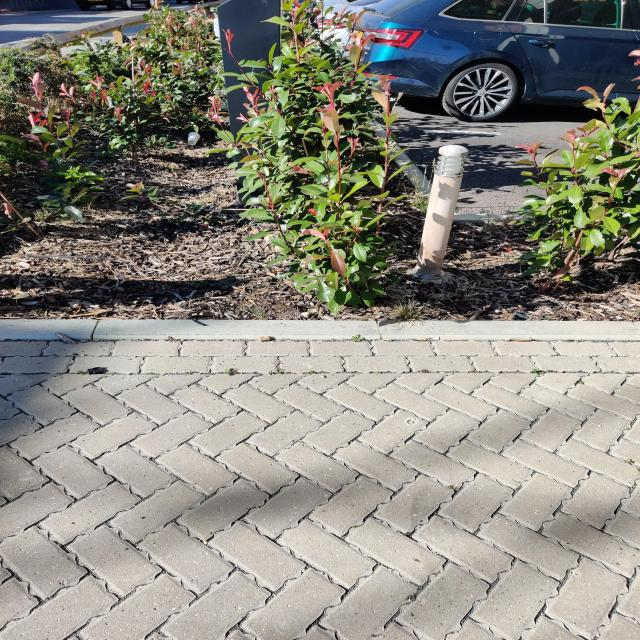litter: (191, 131, 204, 147)
